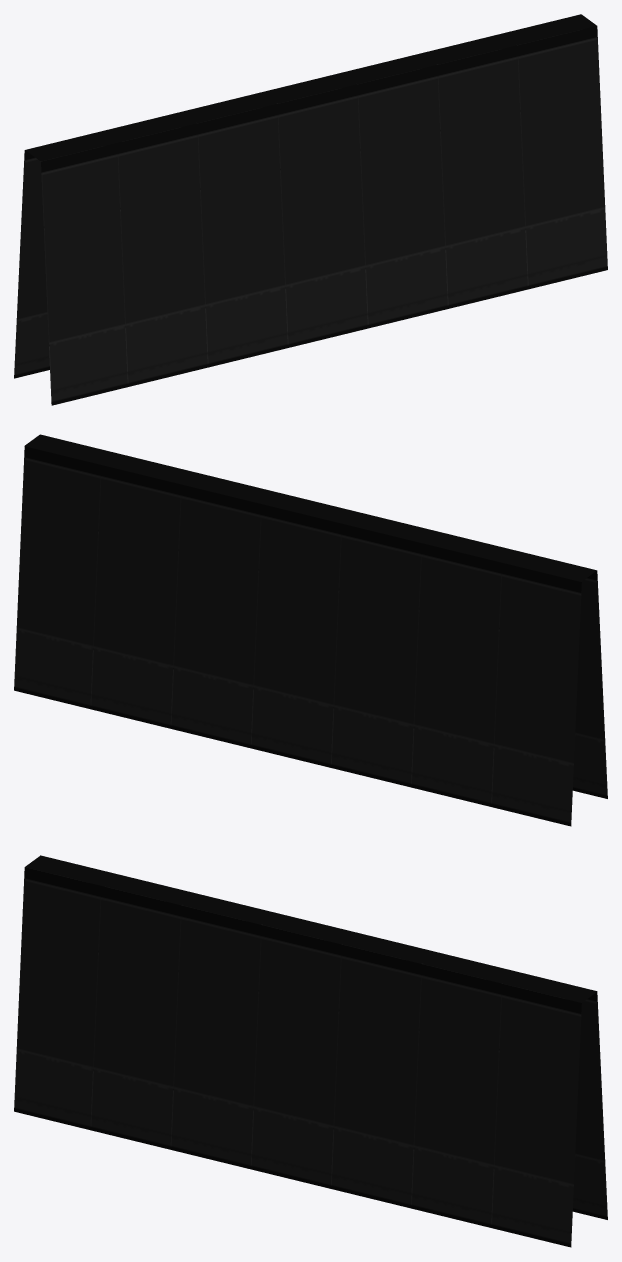
File: Wall.fbx
3 views of the same model, one above another, from view 1: azimuth 30°, elevation 25°; view 2: azimuth 150°, elevation 25°; view 3: azimuth 330°, elevation 25° (orthographic).
Visible parts, largest first — view 1: Walls.001; view 2: Walls.001; view 3: Walls.001.
Part boxes in pixels (x1,y1,x2,y2): Walls.001: [14, 14, 607, 405]; Walls.001: [14, 434, 607, 826]; Walls.001: [14, 855, 607, 1247].
Bounding box in the file's own units: 435 × 176 × 50.26.
2 materials, 2 textured.
